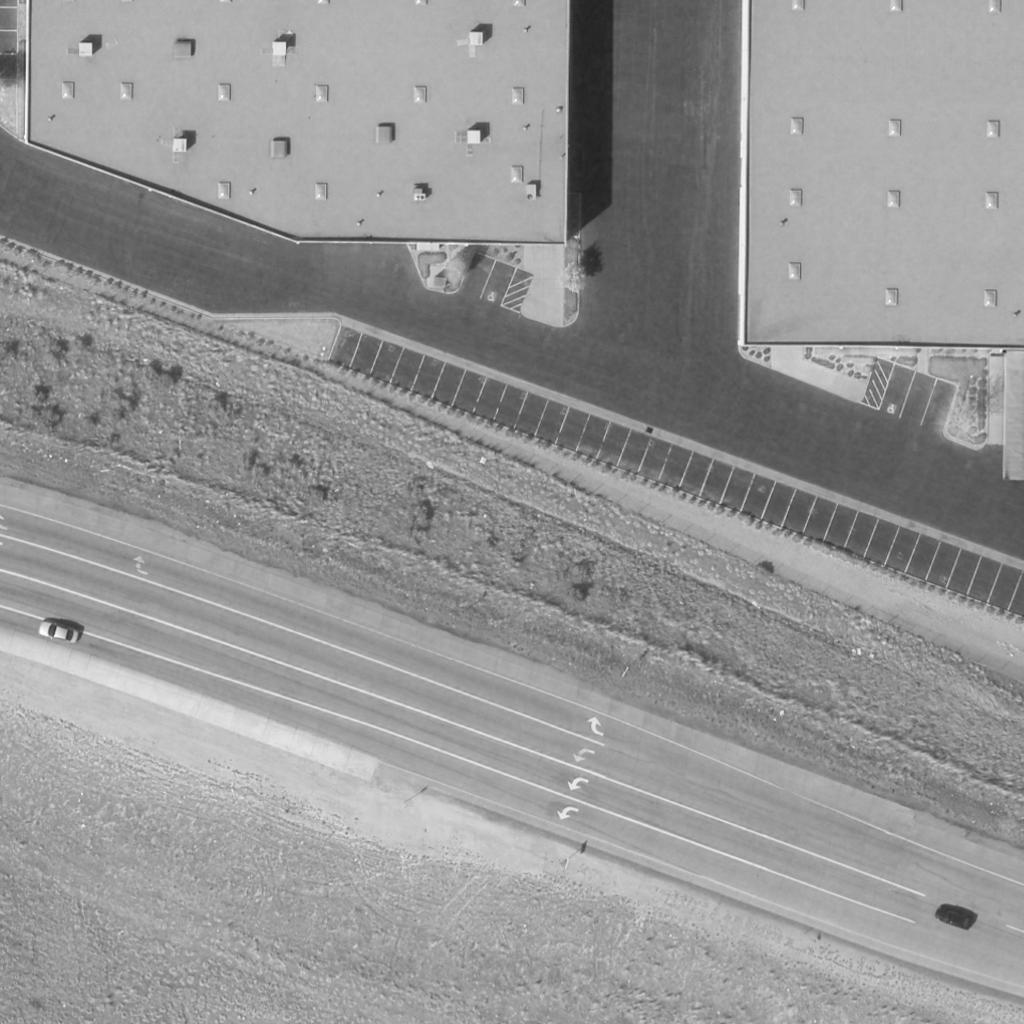vehicle: (931, 905, 975, 931), (38, 620, 80, 646)
